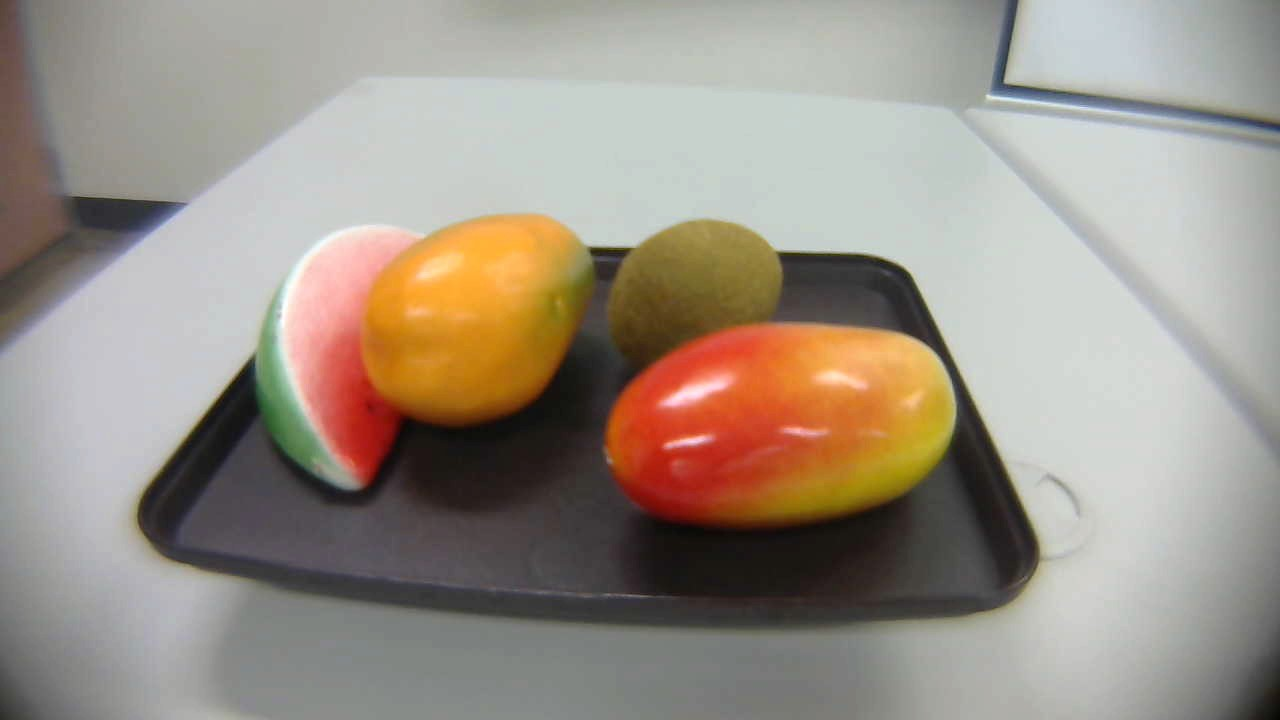kiwi fruit: (605, 219, 791, 359)
papya: (362, 213, 599, 422)
red mango: (605, 327, 965, 524)
water melon: (260, 219, 430, 497)
